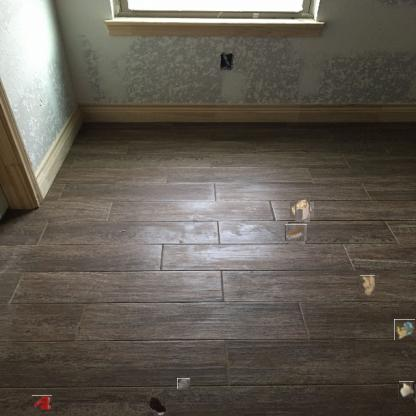dirty: (394, 319, 415, 340), (292, 200, 312, 220), (287, 223, 306, 243), (360, 275, 376, 296), (398, 382, 415, 398), (177, 378, 190, 389)
liquid: (146, 396, 166, 416), (32, 395, 52, 410)
